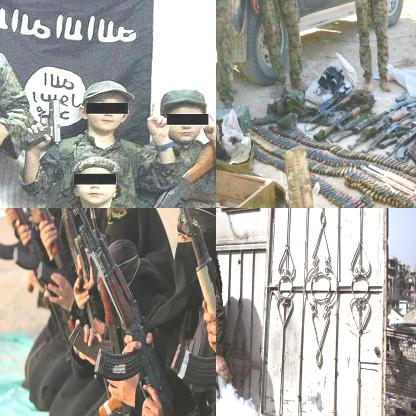pistol: (20, 98, 66, 150)
rifle: (71, 208, 182, 415), (168, 208, 215, 415), (136, 143, 215, 207), (0, 208, 55, 296), (321, 97, 375, 142), (306, 90, 358, 133), (362, 116, 415, 155), (0, 208, 28, 262)
